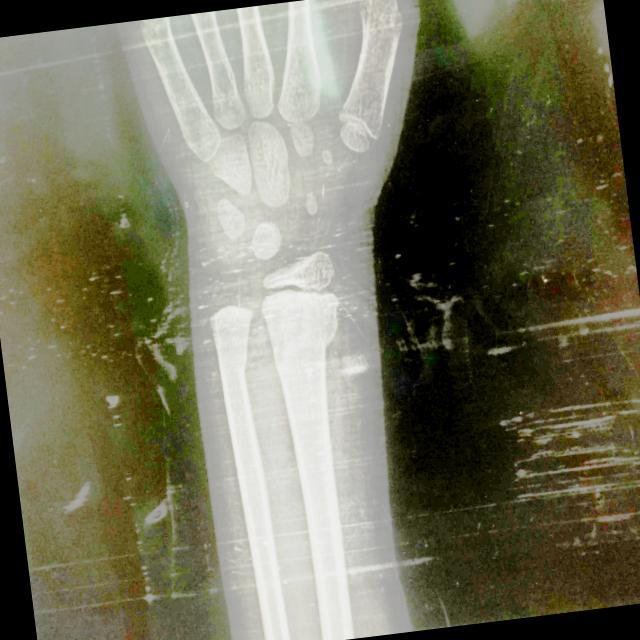GreenStick Fracture: (290, 146, 357, 284)
